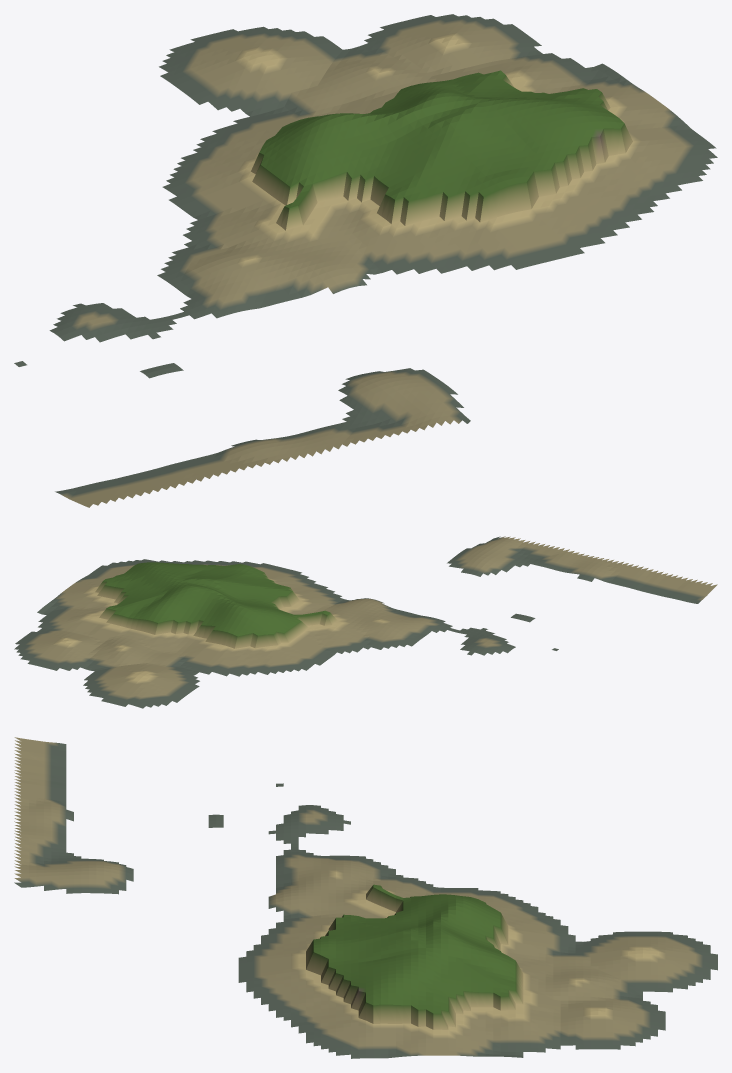
The model's file is coast_tile_x2z1.glb.
The picture shows the model from 3 angles, top to bottom: view 1: azimuth 30°, elevation 25°; view 2: azimuth 150°, elevation 25°; view 3: azimuth 270°, elevation 25°; orthographic projection. The views are drawn at different scales.
Visible parts, largest first — view 1: geometry_0; view 2: geometry_0; view 3: geometry_0.
Part boxes in pixels (bbox=[...]): geometry_0: bbox=[14, 14, 717, 507]; geometry_0: bbox=[14, 536, 717, 708]; geometry_0: bbox=[14, 737, 717, 1058].
Size of the model in its own units: 594 by 40.53 by 564.
